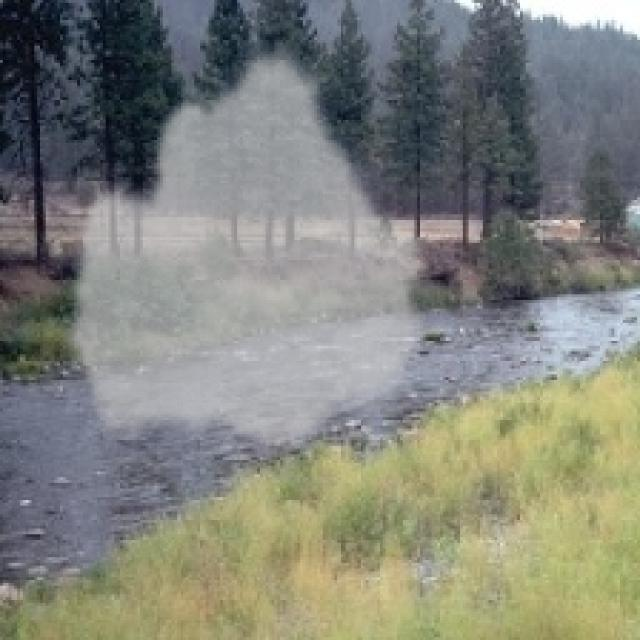Smoke: (62, 37, 438, 454)
